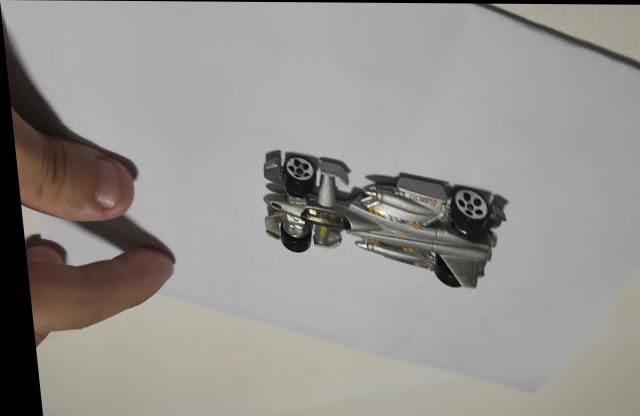05_DC121: (259, 148, 505, 287)
